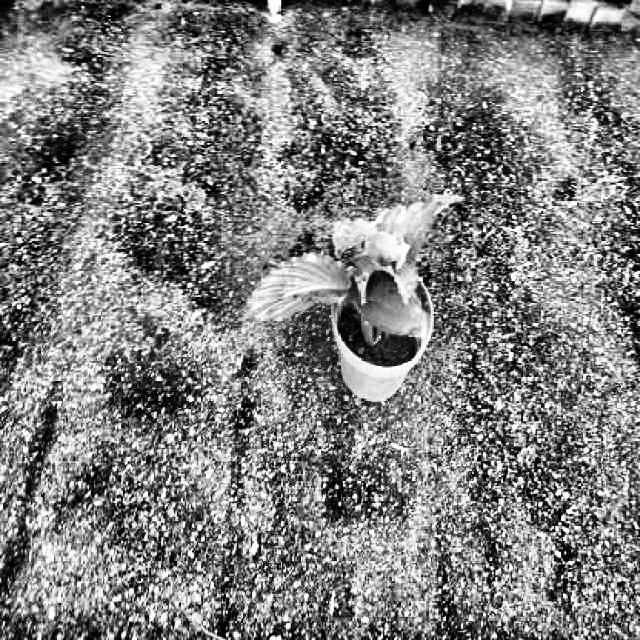plants: (240, 192, 466, 346)
